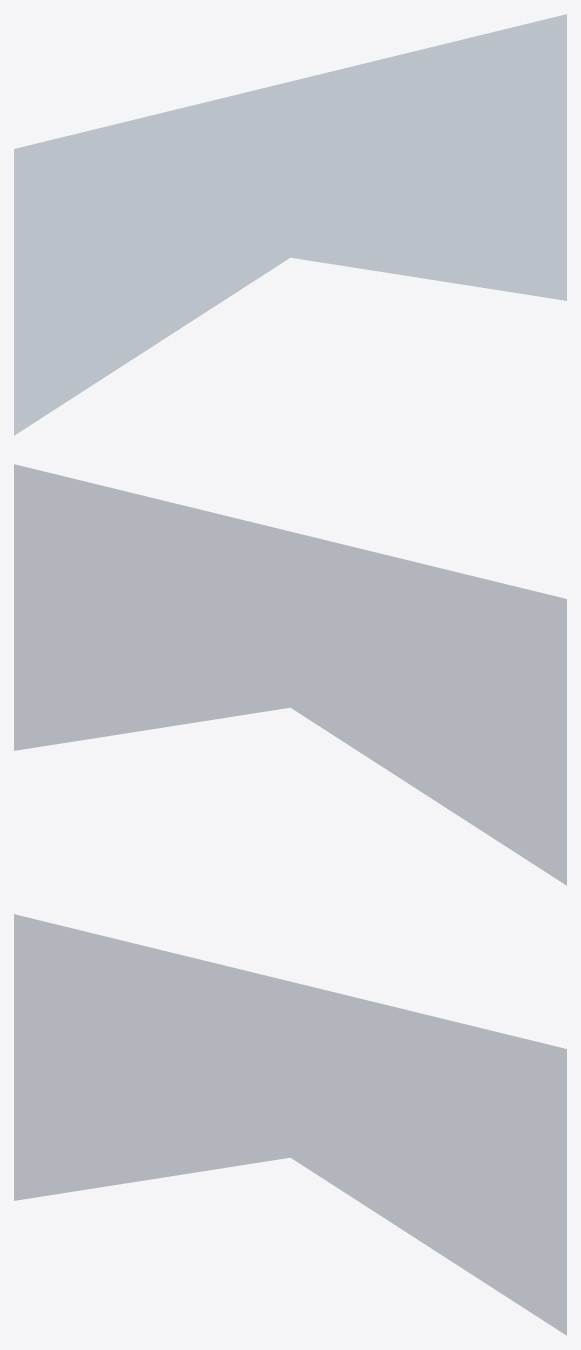
Rendered from wutaishan_boli.FBX.
3 views of the same model, one above another, from view 1: azimuth 30°, elevation 25°; view 2: azimuth 150°, elevation 25°; view 3: azimuth 330°, elevation 25° (orthographic).
Parts seen in each view (by area): view 1: Object048; view 2: Object048; view 3: Object048.
Boxes of the visible parts, bbox=[...] form: Object048: bbox=[14, 14, 566, 435]; Object048: bbox=[14, 464, 566, 885]; Object048: bbox=[14, 914, 566, 1335].
Bounding box in the file's own units: 11500 × 5700 × 0.0156.
